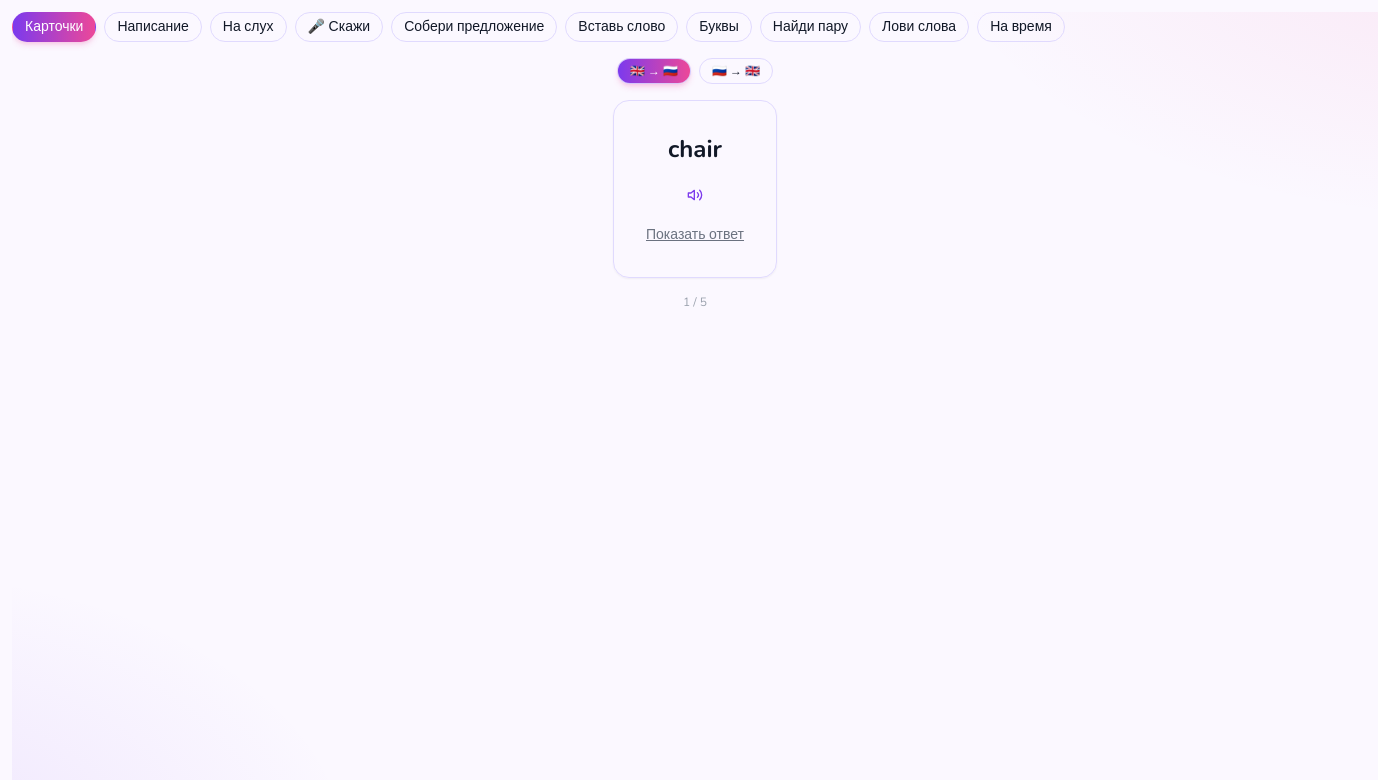
TopicPractice › offers all practice modes and switches between them
Expected: the button "Карточки" is shown, [12, 12, 96, 42]
Expected: the button "На слух" is shown, [210, 12, 286, 42]
Click the button "Написание": (153, 27) [104, 12, 202, 42]
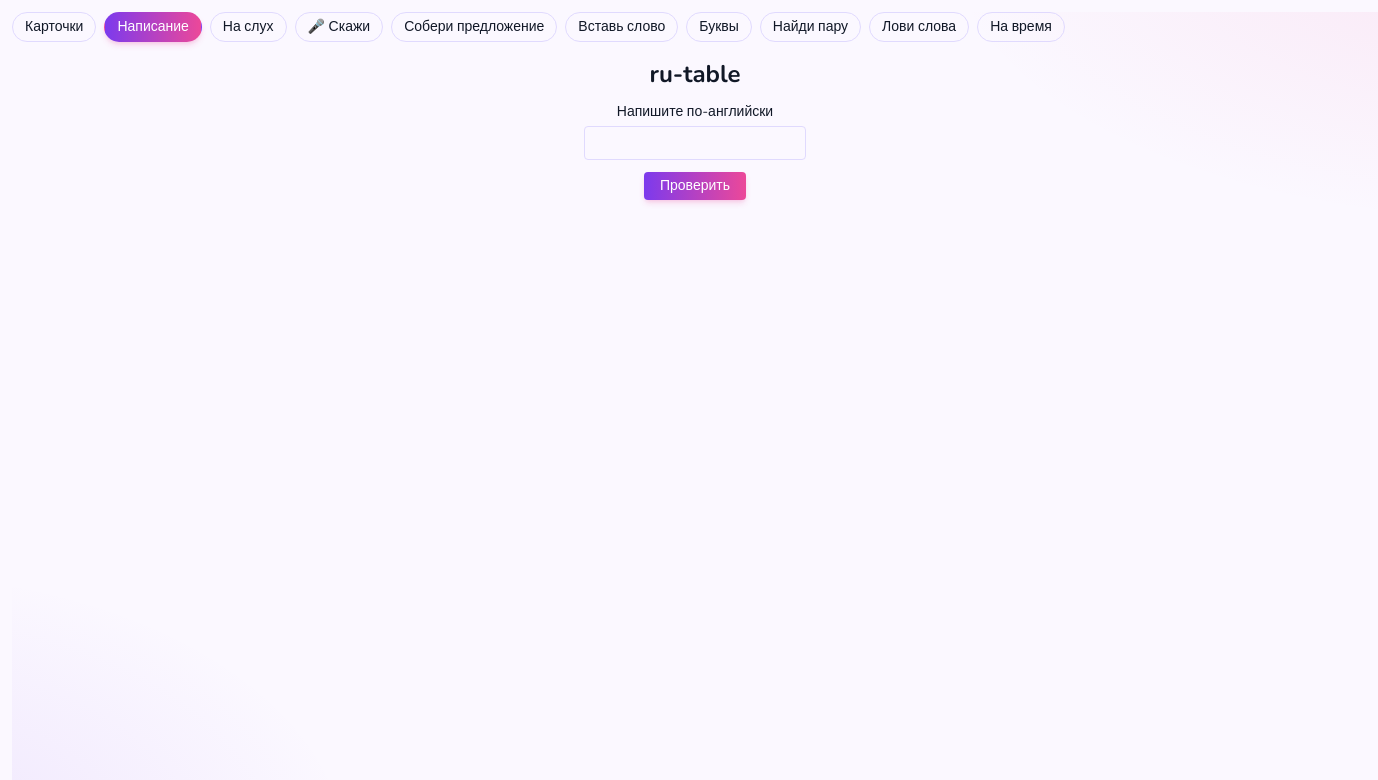
Expected: the field is shown, [584, 126, 806, 160]
